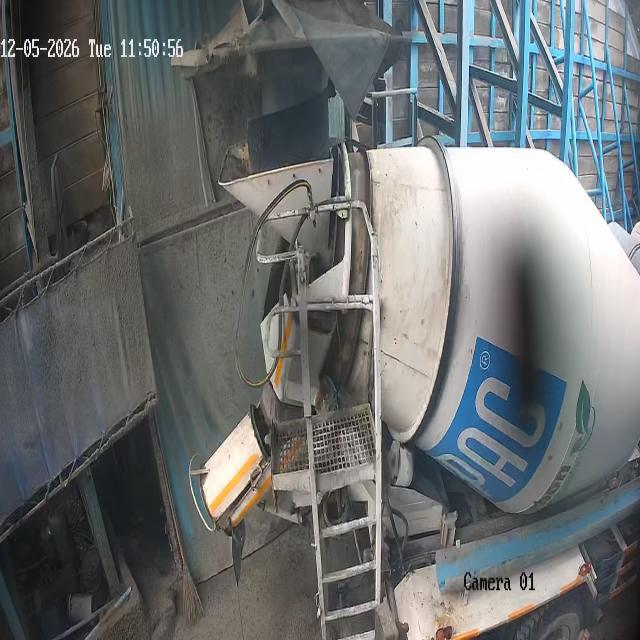cement_mixer_truck: (219, 131, 640, 640)
